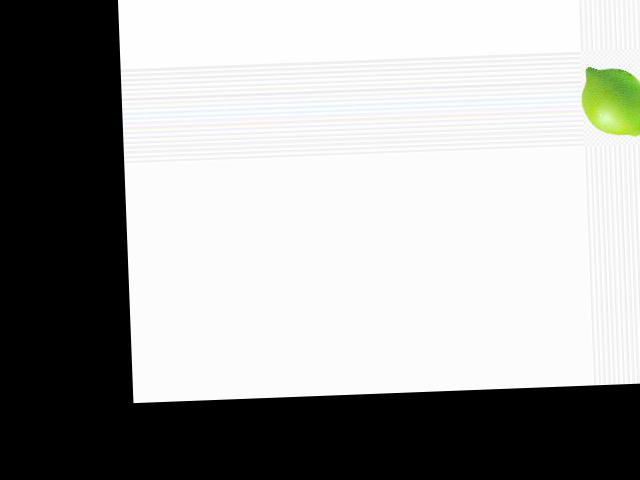lemon: (581, 61, 640, 139)
